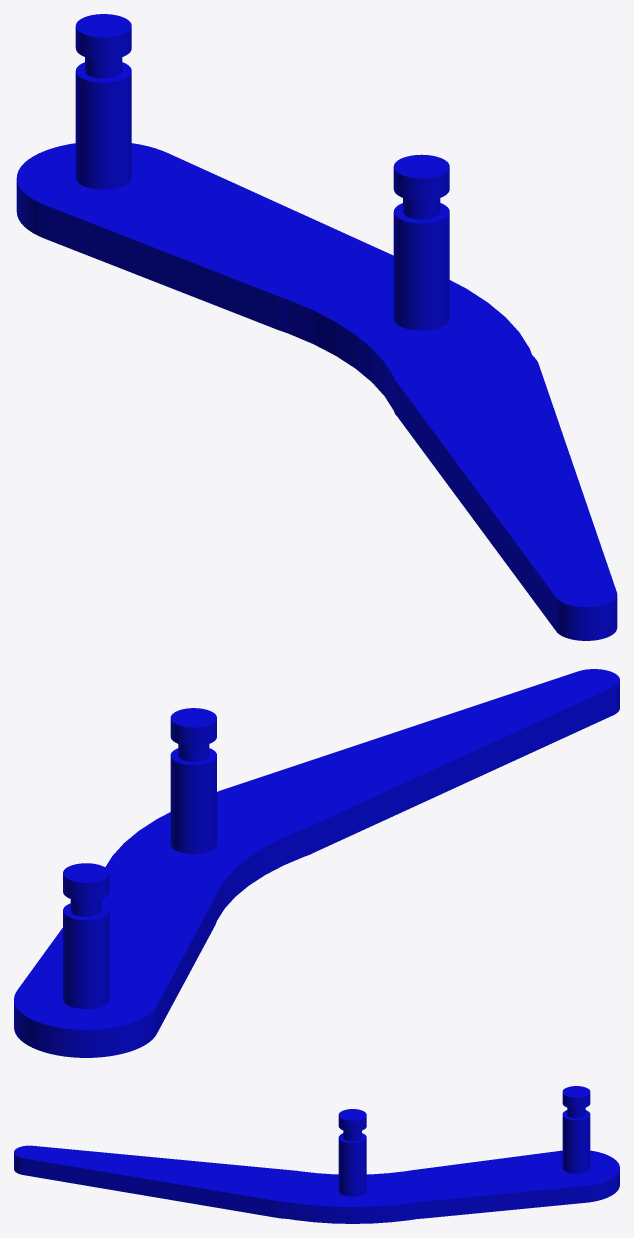
File: leg_PCBWay Community.008.dae
The picture shows the model from 3 angles, top to bottom: view 1: azimuth 30°, elevation 25°; view 2: azimuth 150°, elevation 25°; view 3: azimuth 270°, elevation 25°; orthographic projection. The views are drawn at different scales.
Visible parts, largest first — view 1: tmp_export_leg_PCBWay Community.008; view 2: tmp_export_leg_PCBWay Community.008; view 3: tmp_export_leg_PCBWay Community.008.
Boxes of the visible parts, x1=… form: tmp_export_leg_PCBWay Community.008: x1=16, y1=14, x2=617, y2=640; tmp_export_leg_PCBWay Community.008: x1=14, y1=669, x2=619, y2=1057; tmp_export_leg_PCBWay Community.008: x1=14, y1=1086, x2=619, y2=1223.
Bounding box in the file's own units: 0.0234 × 0.0975 × 0.0165.
